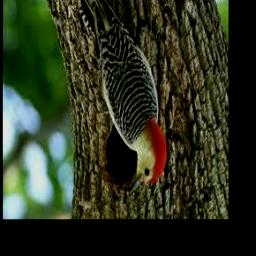Woodpecker: (71, 0, 167, 194)
